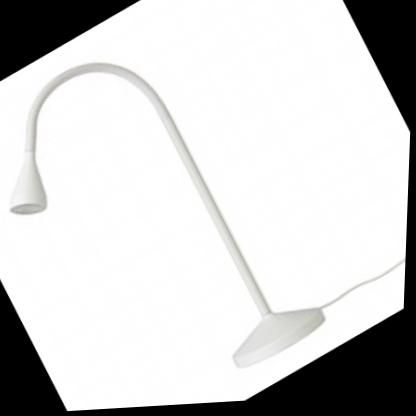Lamp: (0, 0, 355, 416)
